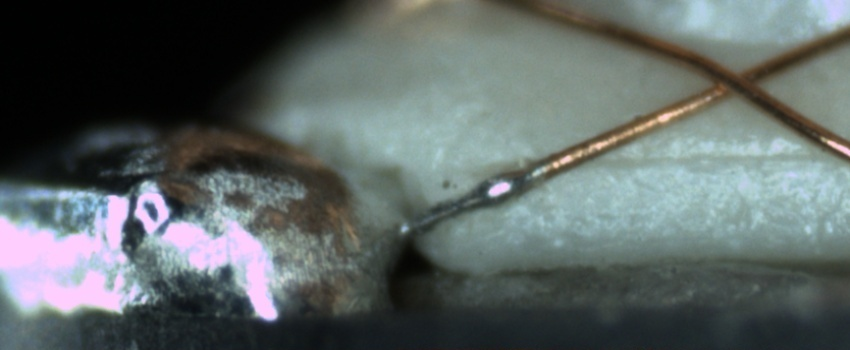CL: (693, 49, 780, 108)
DL: (581, 134, 837, 186)
TB: (475, 171, 526, 213)
TS: (410, 165, 547, 232)
TTCW: (394, 142, 590, 241)
